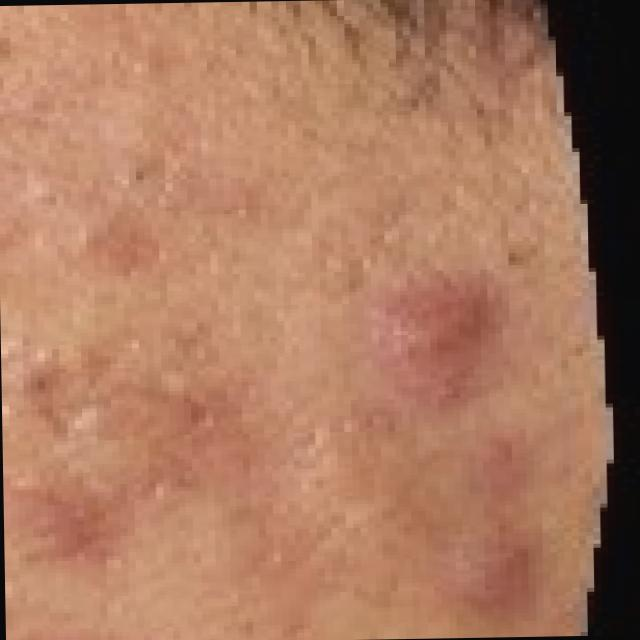nodule: (368, 279, 492, 366), (450, 536, 540, 616)
